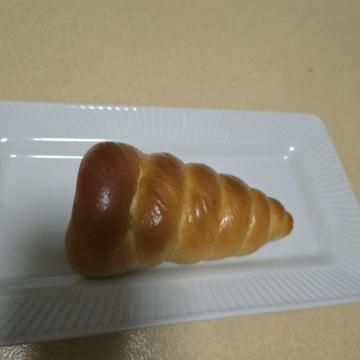cream horn: (124, 54, 300, 315)
